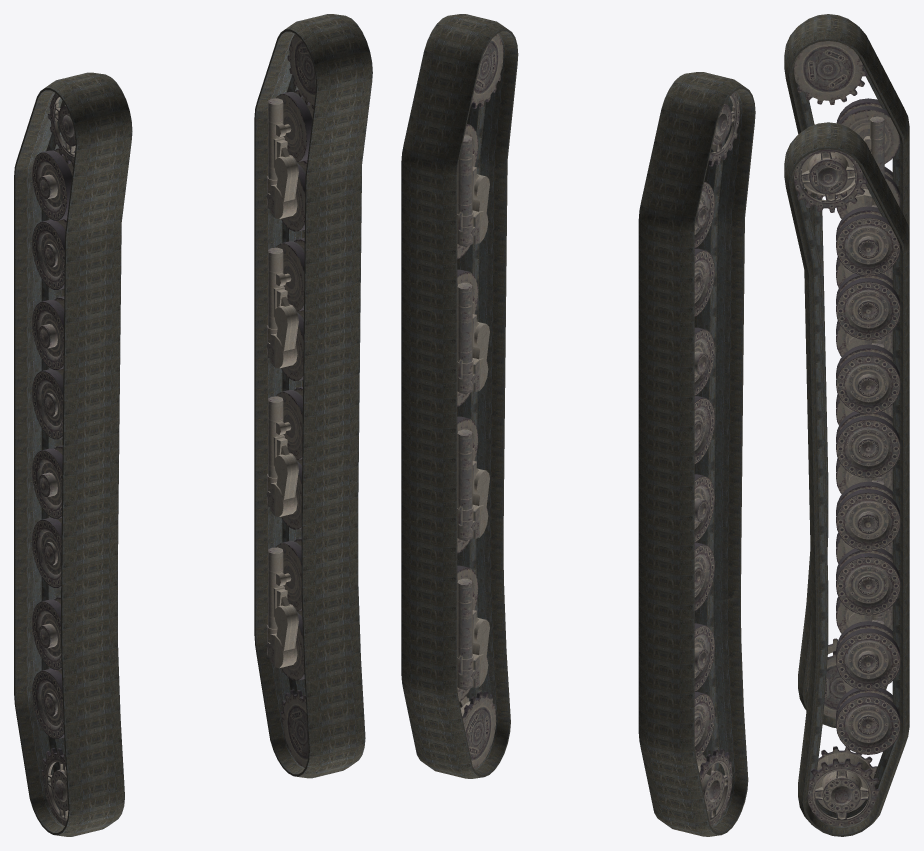
Rendered from Chassis.glb.
The picture shows the model from 3 angles, left to right: view 1: azimuth 30°, elevation 25°; view 2: azimuth 150°, elevation 25°; view 3: azimuth 270°, elevation 25°; orthographic projection. The views are drawn at different scales.
Parts seen in each view (by area): view 1: set_3_group_0, set_1_group_0, set_5_group_0, set_4_group_0, set_0_group_0, set_2_group_0; view 2: set_3_group_0, set_1_group_0, set_5_group_0, set_4_group_0, set_2_group_0, set_0_group_0; view 3: set_5_group_0, set_1_group_0, set_4_group_0, set_3_group_0, set_0_group_0, set_2_group_0.
Boxes of the visible parts, <box> form: set_3_group_0: <box>14,72,132,836</box>; set_1_group_0: <box>254,14,372,778</box>; set_5_group_0: <box>266,34,316,767</box>; set_4_group_0: <box>32,93,75,825</box>; set_0_group_0: <box>302,211,361,451</box>; set_2_group_0: <box>62,270,121,510</box>; set_3_group_0: <box>638,72,755,836</box>; set_1_group_0: <box>401,14,518,778</box>; set_5_group_0: <box>457,33,503,768</box>; set_4_group_0: <box>694,92,739,825</box>; set_2_group_0: <box>694,261,744,493</box>; set_0_group_0: <box>457,205,506,435</box>; set_5_group_0: <box>794,149,900,826</box>; set_1_group_0: <box>784,122,909,836</box>; set_4_group_0: <box>794,41,900,718</box>; set_3_group_0: <box>784,14,909,727</box>; set_0_group_0: <box>805,306,826,529</box>; set_2_group_0: <box>809,198,826,408</box>.
Bounding box in the file's own units: 3.41 × 8.32 × 1.35.
6 materials, 6 textured.
